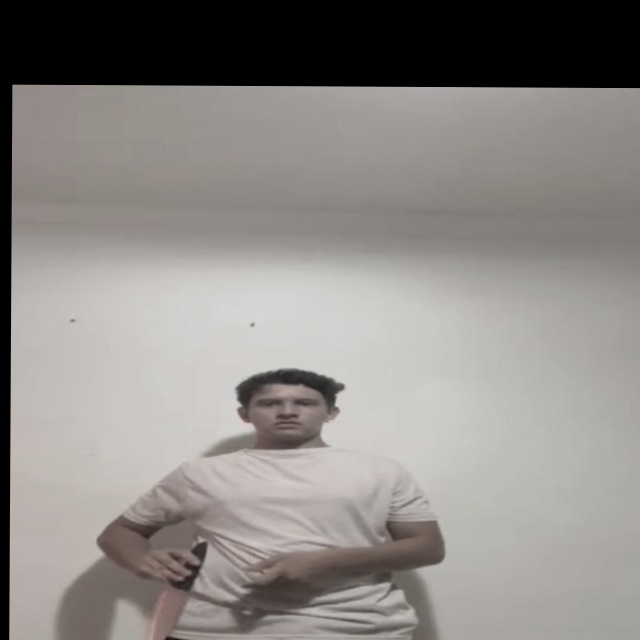Sharp-Object: (141, 586, 187, 640)
